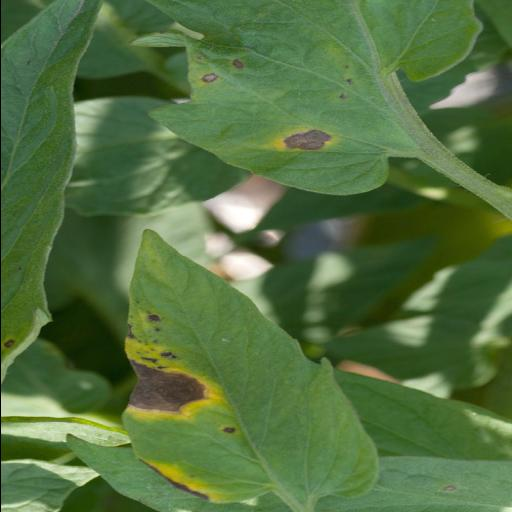Early Blight: (120, 224, 384, 506), (134, 0, 490, 196)
